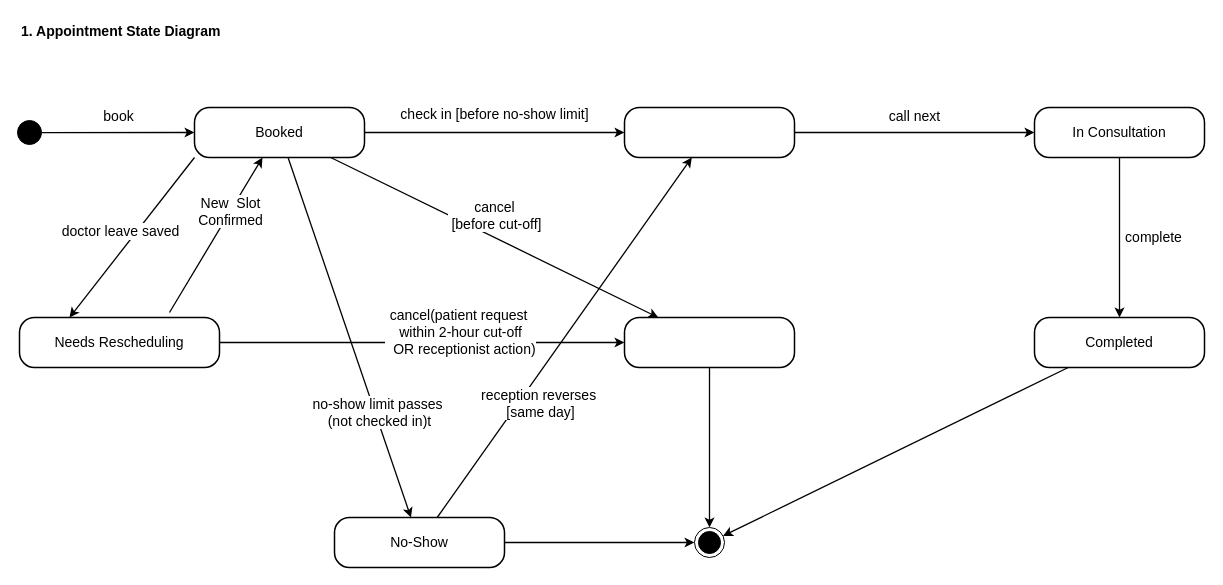
This 1223x585 diagram has some shape labels left out. Each missing label, with the centre of its shape:
Cancelled: the point at 709,342
Checked-In: the point at 709,132
